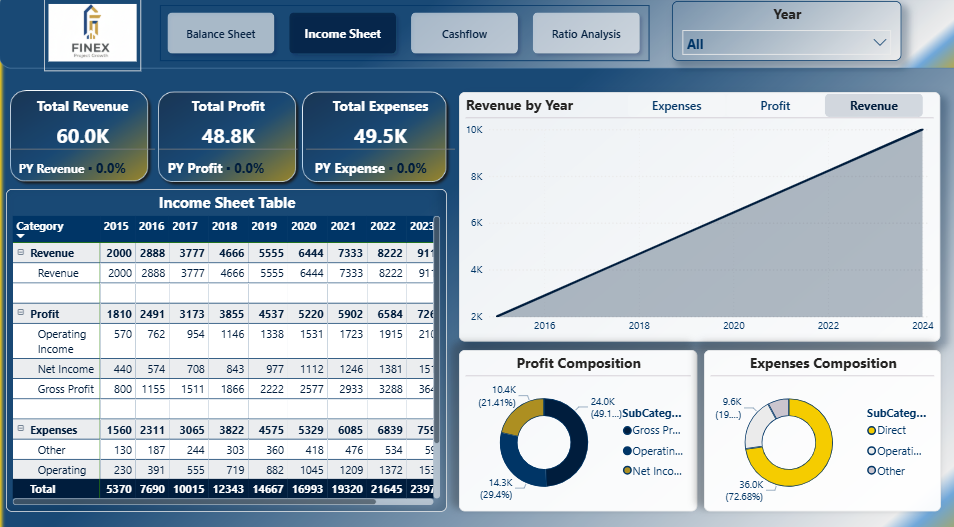

What the dashboard file says about the page in this screenshot:
{"tool":"powerbi","page":{"name":"Income Sheet","canvas":[1280,720],"ordinal":1},"visuals":[{"type":"pivotTable","title":"Income Sheet Table","fields":{"Columns":["Income Statement.Year"],"Values":["Sum(Income Statement.Value)"],"Rows":["Income Statement.Category","Income Statement.SubCategory"]},"box":[9.9,259.4,589.6,432.3],"z":0},{"type":"cardVisual","title":"Total Assets","fields":{"Data":["_Measure for IS.Total Revenue"]},"box":[10,130,205.8,144.2],"z":1000},{"type":"cardVisual","title":"Total Assets","fields":{"Data":["_Measure for IS.Total Profit"]},"box":[208.3,130,196.7,144.2],"z":2000},{"type":"cardVisual","title":"Total Assets","fields":{"Data":["_Measure for IS.Total Expenses"]},"box":[405,130,210,142.5],"z":3000},{"type":"lineChart","fields":{"Category":["DimYear.Year"],"Y":["_Measure for IS.line_chart_measures_is"]},"box":[615.7,130,644.3,334.3],"z":4000},{"type":"donutChart","title":"Profit Composition","fields":{"Y":["_Measure for IS.Total Profit"],"Category":["Income Statement.SubCategory"]},"box":[615.7,475.7,318.6,215.7],"z":5000},{"type":"donutChart","title":"Expenses Composition","fields":{"Y":["_Measure for IS.Total Expenses"],"Category":["Income Statement.SubCategory"]},"box":[942.9,475.7,317.1,215.7],"z":6000},{"type":"slicer","title":"Year","fields":{"Values":["DimDate.Year"]},"box":[900,8.6,307.1,80],"z":7000},{"type":"pageNavigator","box":[215,13.3,655,75],"z":8000},{"type":"advancedSlicerVisual","fields":{"Values":["line_selected_table_is.Type"]},"box":[836.2,127.5,405,41.2],"z":9000},{"type":"image","box":[60,0,130,101.7],"z":10000}]}

Visuals, with their boxes in screenshot pixels (x1, y1, x2, y2), scaled from the page's 1280x720 canvas onto the 954x527 screenshot:
"Income Sheet Table" pivotTable: left=7, top=190, right=447, bottom=506
"Total Assets" cardVisual: left=7, top=95, right=161, bottom=201
"Total Assets" cardVisual: left=155, top=95, right=302, bottom=201
"Total Assets" cardVisual: left=302, top=95, right=458, bottom=199
lineChart - DimYear.Year x _Measure for IS.line_chart_measures_is: left=459, top=95, right=939, bottom=340
"Profit Composition" donutChart: left=459, top=348, right=696, bottom=506
"Expenses Composition" donutChart: left=703, top=348, right=939, bottom=506
"Year" slicer: left=671, top=6, right=900, bottom=65
pageNavigator: left=160, top=10, right=648, bottom=65
advancedSlicerVisual - line_selected_table_is.Type: left=623, top=93, right=925, bottom=123
image: left=45, top=0, right=142, bottom=74
